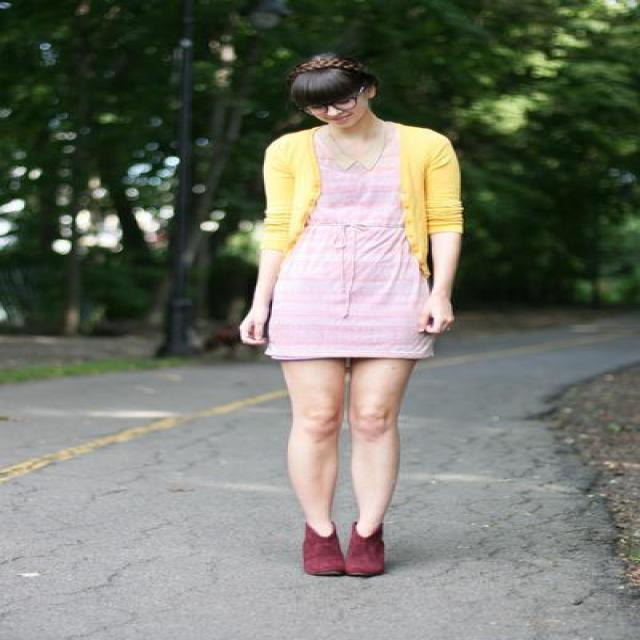dress: (266, 148, 430, 358)
jacket: (252, 122, 462, 293)
shoe: (302, 525, 389, 578)
